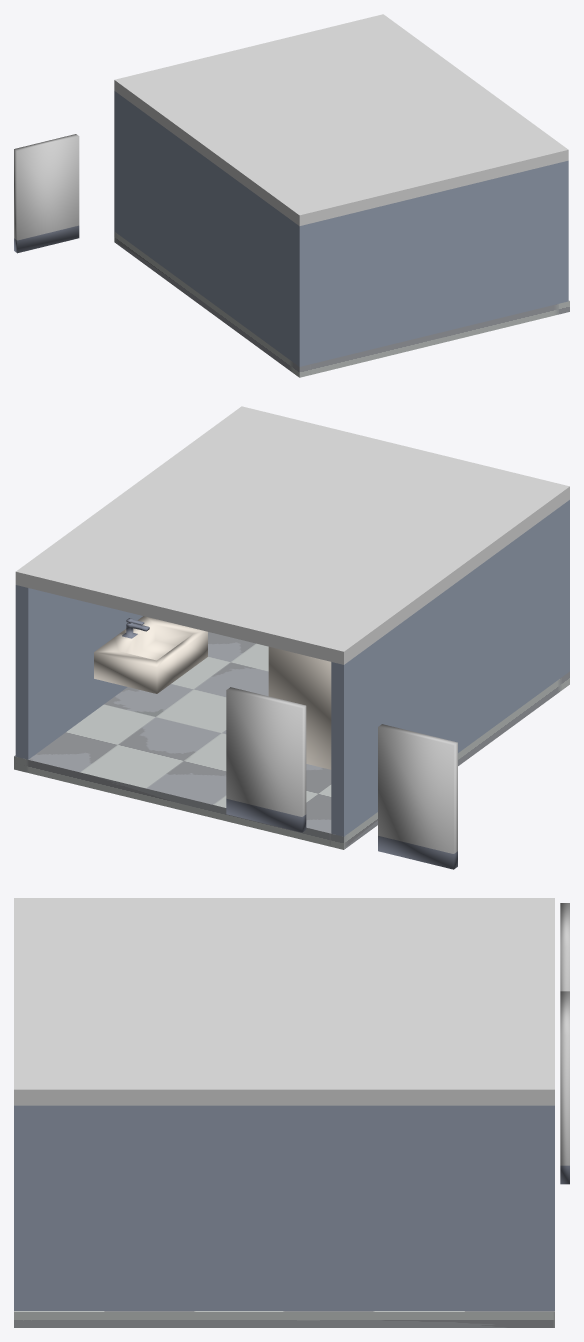
Rendered from baño.fbx.
The picture shows the model from 3 angles, top to bottom: view 1: azimuth 30°, elevation 25°; view 2: azimuth 150°, elevation 25°; view 3: azimuth 270°, elevation 25°; orthographic projection. The views are drawn at different scales.
Parts seen in each view (by area): view 1: baño, bañoTecho, puertaBaño, bañoSuelo; view 2: bañoTecho, baño, bañoSuelo, puertaBaño.001, puertaBaño, bañoLabamanos, bañoParedInt; view 3: bañoTecho, baño, bañoSuelo, puertaBaño.001, puertaBaño.
Part boxes in pixels (<box>): baño: <box>114,91,568,366</box>; bañoTecho: <box>114,14,568,226</box>; puertaBaño: <box>14,134,79,253</box>; bañoSuelo: <box>114,231,569,377</box>; bañoTecho: <box>15,406,569,664</box>; baño: <box>15,500,569,836</box>; bañoSuelo: <box>14,632,569,849</box>; puertaBaño.001: <box>226,687,306,832</box>; puertaBaño: <box>378,724,457,869</box>; bañoLabamanos: <box>94,616,207,693</box>; bañoParedInt: <box>268,646,331,769</box>; bañoTecho: <box>14,898,554,1105</box>; baño: <box>14,1105,554,1310</box>; bañoSuelo: <box>14,1311,554,1327</box>; puertaBaño.001: <box>560,991,569,1184</box>; puertaBaño: <box>560,903,569,991</box>.
Bounding box in the file's own units: 3533 × 1500 × 3187.
